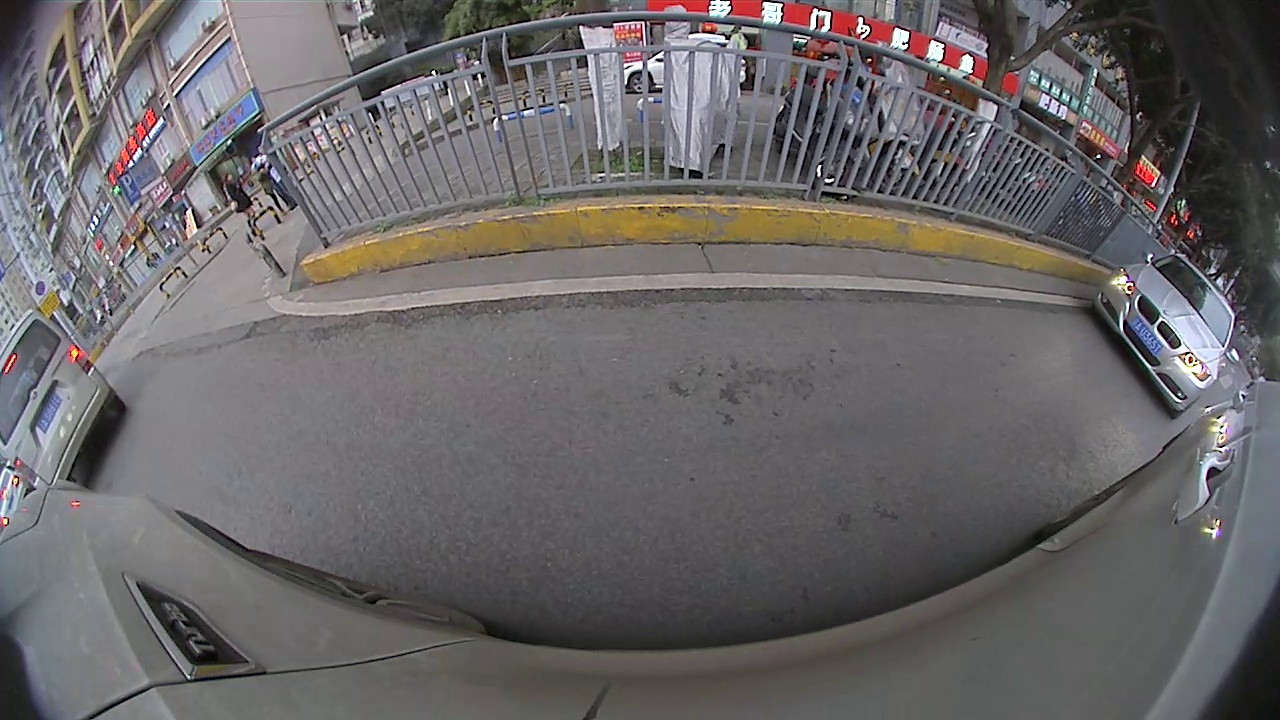car: (1085, 244, 1245, 421), (1, 303, 131, 491)
front: (811, 149, 857, 200), (874, 154, 921, 196)
person: (210, 167, 263, 240)
rear: (626, 70, 651, 94)
rider: (774, 43, 883, 193)
